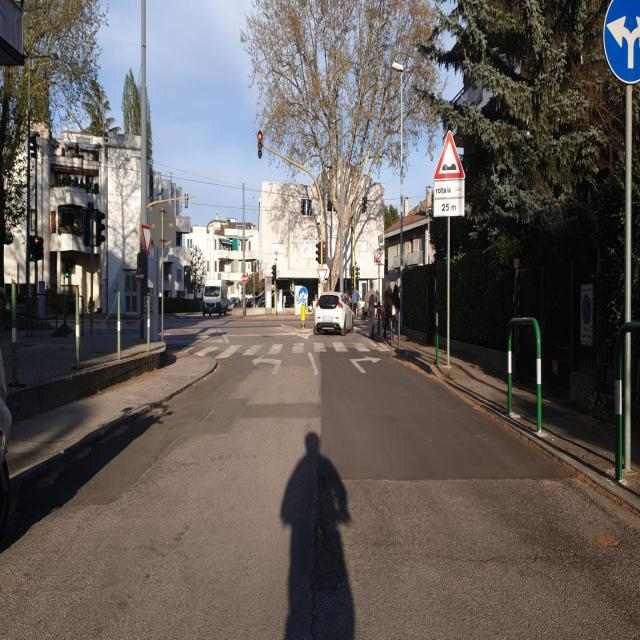forb_stopping: (582, 294, 591, 324)
